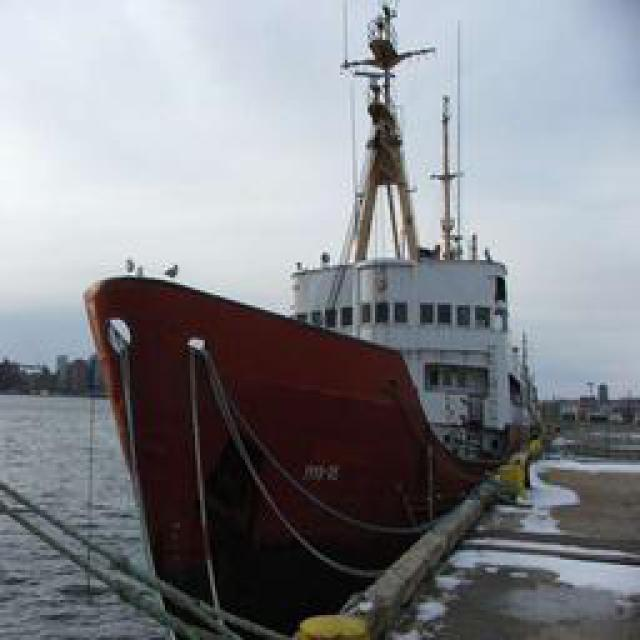Ship: (76, 71, 554, 631)
